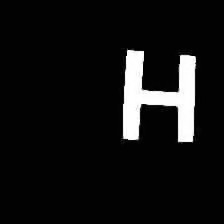LTR_H: (112, 34, 205, 153)
